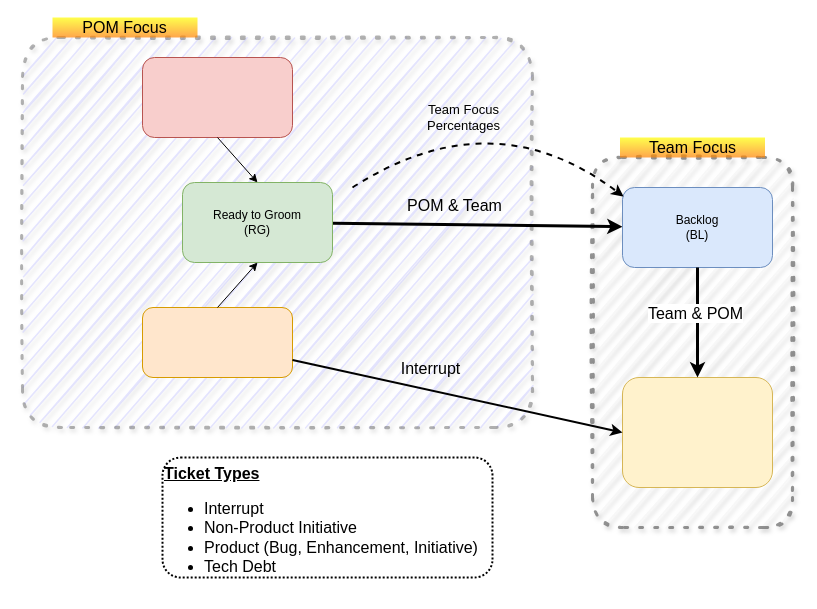
This 817x609 diagram has some shape labels left out. The shapes that lost their labels are listed below. From the top down, each one's centre as x and y in pixels, then its label:
At pixel 217 97: "Parking Lot (PL)".
At pixel 217 342: "Funnel (F)".
At pixel 697 432: "Sprint (S)".
